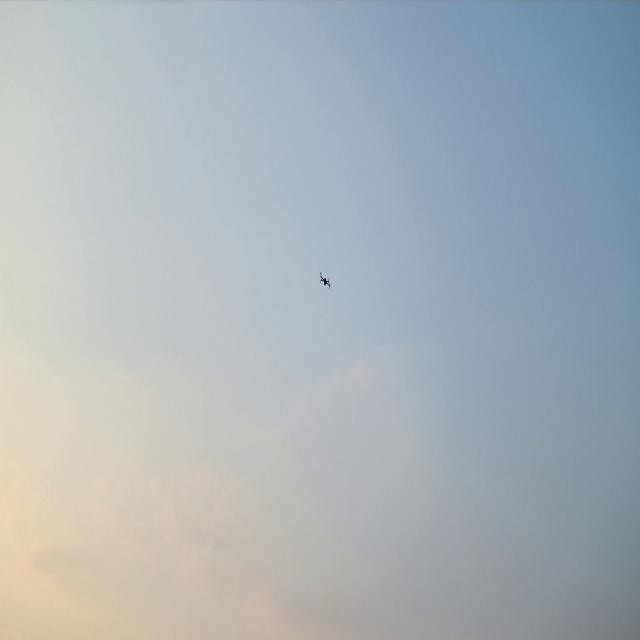UAV: (320, 273, 330, 288)
